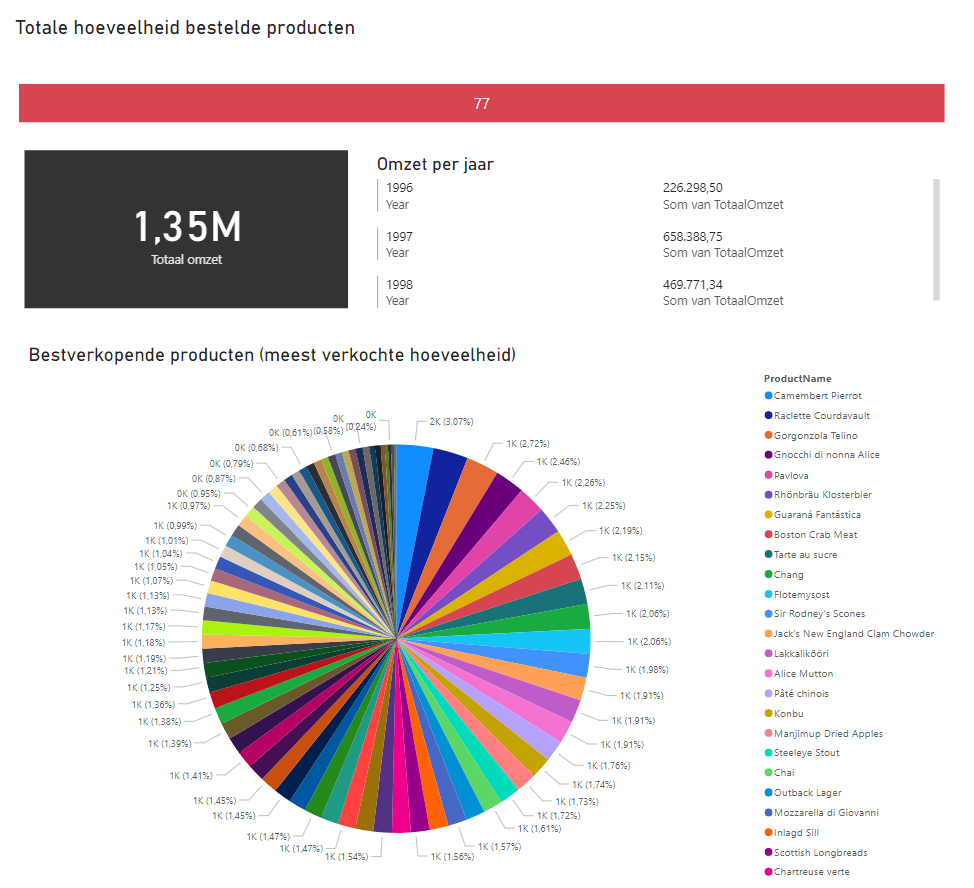

What the dashboard file says about the page in this screenshot:
{"tool":"powerbi","page":{"name":"Totale verkoopopbrengst","canvas":[1200,1220],"ordinal":0},"visuals":[{"type":"funnel","title":"Totale hoeveelheid bestelde producten","fields":{"Y":["CountNonNull(Product.ProductID)"]},"box":[0,75,1264.3,239],"z":1},{"type":"multiRowCard","title":"Omzet per jaar","fields":{"Values":["Day.Year","Sum(OrderDetails.TotaalOmzet)"]},"box":[536.4,324.2,727.5,210.3],"z":2},{"type":"card","title":"Totaal omzet","fields":{"Values":["Sum(OrderDetails.TotaalOmzet)"]},"box":[56,326.1,411,200.7],"z":3},{"type":"pieChart","title":"Bestverkopende producten (meest verkochte hoeveelheid): ","fields":{"Category":["Product.ProductName"],"Y":["Sum(OrderDetails.Quantity)"]},"box":[27.2,539.5,1143.3,626.1],"z":4}]}

Visuals, with their boxes on the page's 1200x1220 design canvas (x1, y1, x2, y2). These are canvas units, not pixel positions in the 974x888 screenshot, which may show the page scaled, cropped or inside an application window:
"Totale hoeveelheid bestelde producten" funnel: box(0, 75, 1264, 314)
"Omzet per jaar" multiRowCard: box(536, 324, 1264, 534)
"Totaal omzet" card: box(56, 326, 467, 527)
"Bestverkopende producten (meest verkochte hoeveelheid): " pieChart: box(27, 540, 1170, 1166)
